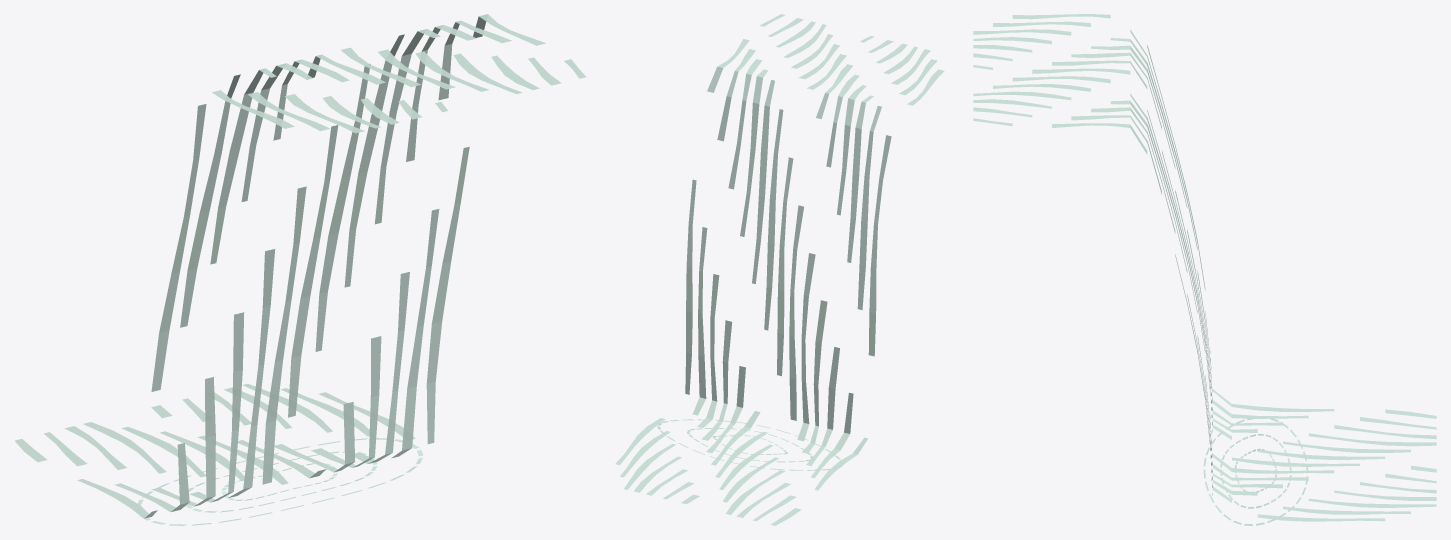
File: CascadeFoam.glb
3 views of the same model, side by side, from view 1: azimuth 30°, elevation 25°; view 2: azimuth 150°, elevation 25°; view 3: azimuth 270°, elevation 25° (orthographic). The views are drawn at different scales.
Visible parts, largest first — view 1: CascadeFoam; view 2: CascadeFoam; view 3: CascadeFoam.
Boxes of the visible parts, x1,y1,x2,y2 form: CascadeFoam: (15,14,586,525); CascadeFoam: (615,14,944,525); CascadeFoam: (973,14,1436,525).
Size of the model in its own units: 1.8 by 2.89 by 3.
